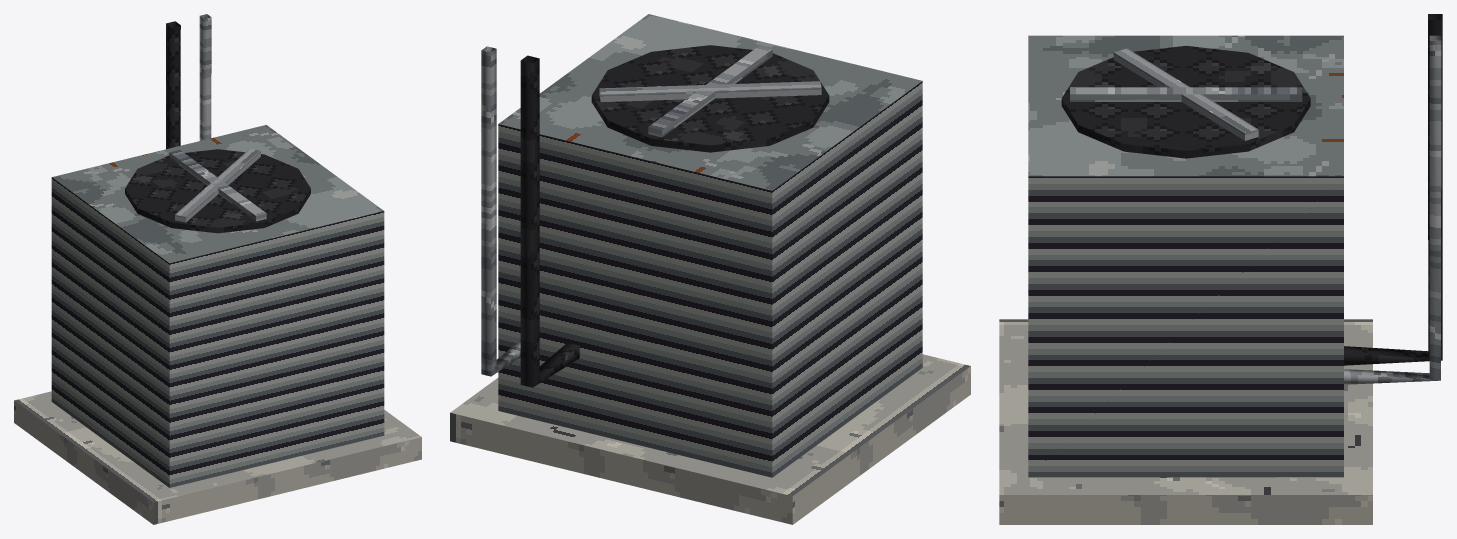
File: UT_ACUnit_Exterior.obj
3 renders of one model, left to right at view 1: azimuth 30°, elevation 25°; view 2: azimuth 150°, elevation 25°; view 3: azimuth 270°, elevation 25°, orthographic. The views are drawn at different scales.
Parts seen in each view (by area): view 1: UT_ACUnit_Exterior_Mesh_M_Town_VentGrille, UT_ACUnit_Exterior_Mesh_M_Road_CurbConcrete, UT_ACUnit_Exterior_Mesh_M_Com_SignageBacking, UT_ACUnit_Exterior_Mesh_M_Furn_Rubber, UT_ACUnit_Exterior_Mesh_M_Furn_MetalBrushed; view 2: UT_ACUnit_Exterior_Mesh_M_Town_VentGrille, UT_ACUnit_Exterior_Mesh_M_Road_CurbConcrete, UT_ACUnit_Exterior_Mesh_M_Furn_Rubber, UT_ACUnit_Exterior_Mesh_M_Com_SignageBacking, UT_ACUnit_Exterior_Mesh_M_Furn_MetalBrushed; view 3: UT_ACUnit_Exterior_Mesh_M_Town_VentGrille, UT_ACUnit_Exterior_Mesh_M_Road_CurbConcrete, UT_ACUnit_Exterior_Mesh_M_Com_SignageBacking, UT_ACUnit_Exterior_Mesh_M_Furn_Rubber, UT_ACUnit_Exterior_Mesh_M_Furn_MetalBrushed.
Boxes of the visible parts, x1,y1,x2,y2 form: UT_ACUnit_Exterior_Mesh_M_Town_VentGrille: [51, 177, 384, 487]; UT_ACUnit_Exterior_Mesh_M_Road_CurbConcrete: [14, 391, 421, 524]; UT_ACUnit_Exterior_Mesh_M_Com_SignageBacking: [52, 125, 383, 263]; UT_ACUnit_Exterior_Mesh_M_Furn_Rubber: [125, 21, 310, 233]; UT_ACUnit_Exterior_Mesh_M_Furn_MetalBrushed: [169, 14, 266, 222]; UT_ACUnit_Exterior_Mesh_M_Town_VentGrille: [498, 81, 922, 477]; UT_ACUnit_Exterior_Mesh_M_Road_CurbConcrete: [450, 354, 970, 524]; UT_ACUnit_Exterior_Mesh_M_Furn_Rubber: [520, 45, 829, 387]; UT_ACUnit_Exterior_Mesh_M_Com_SignageBacking: [499, 14, 922, 190]; UT_ACUnit_Exterior_Mesh_M_Furn_MetalBrushed: [481, 46, 821, 376]; UT_ACUnit_Exterior_Mesh_M_Town_VentGrille: [1028, 176, 1343, 477]; UT_ACUnit_Exterior_Mesh_M_Road_CurbConcrete: [999, 319, 1372, 524]; UT_ACUnit_Exterior_Mesh_M_Com_SignageBacking: [1028, 35, 1343, 176]; UT_ACUnit_Exterior_Mesh_M_Furn_Rubber: [1061, 14, 1442, 365]; UT_ACUnit_Exterior_Mesh_M_Furn_MetalBrushed: [1070, 35, 1441, 384].
Size of the model in its own units: 1 by 1.2 by 1.07.
5 materials, 5 textured.
